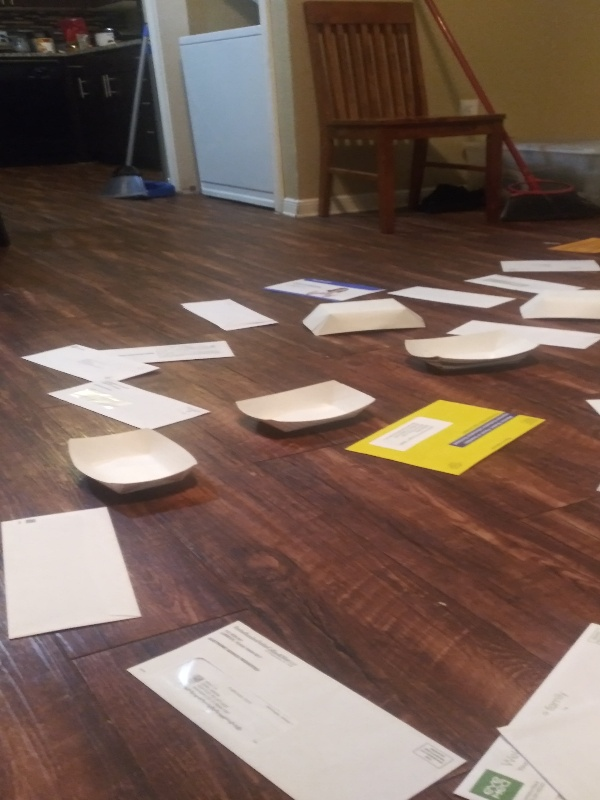plate: (65, 422, 200, 503), (231, 377, 380, 437), (399, 322, 543, 375), (297, 297, 428, 339), (517, 287, 600, 325)
